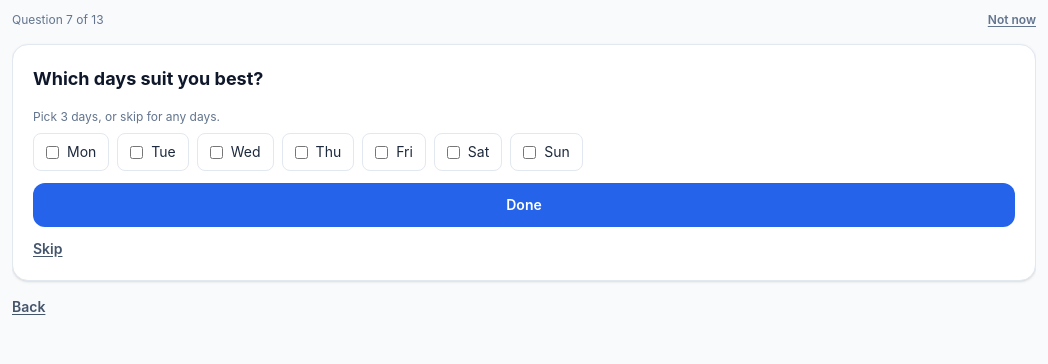
Test: The setup conversation on Home (S-015) › explains a problem and stays on the question
The image size is (1048, 364).
Click the checkbox labelled "Mon".
click(52, 152)  # box [46,146,59,158]
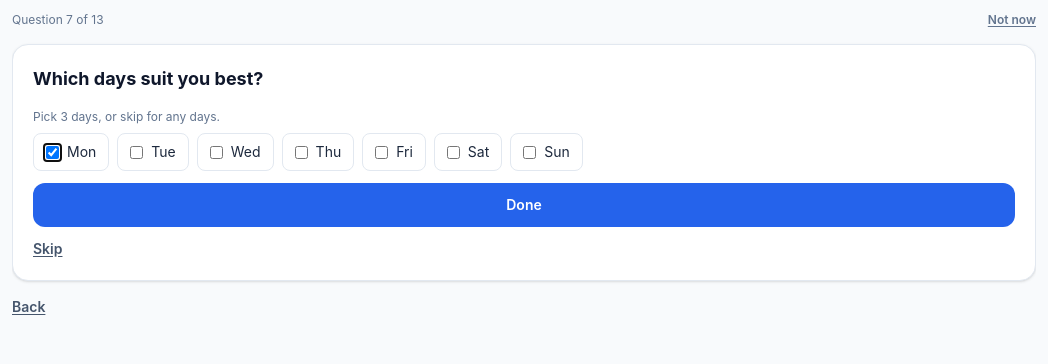
Click the button "Done".
click(524, 205)  # box [33,183,1015,227]
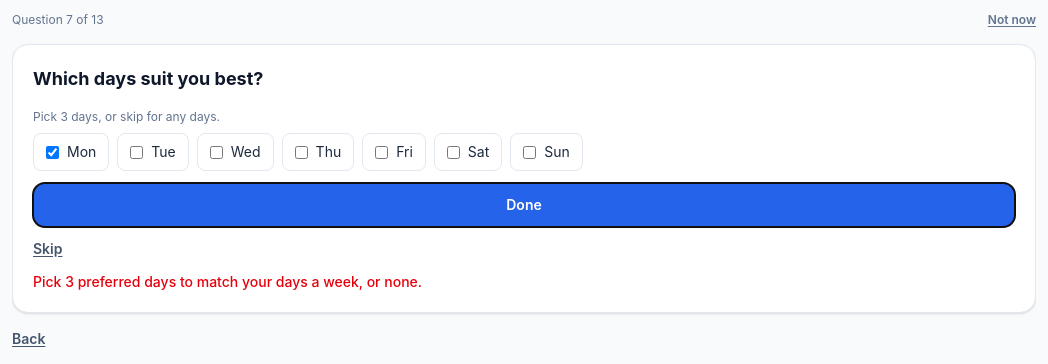
Expected: the text "Which days suit you best?" is shown, [33,68,263,89]
Result: the message reads "Pick 3 preferred days to match your days a week, or none." at [33,273,422,290]
